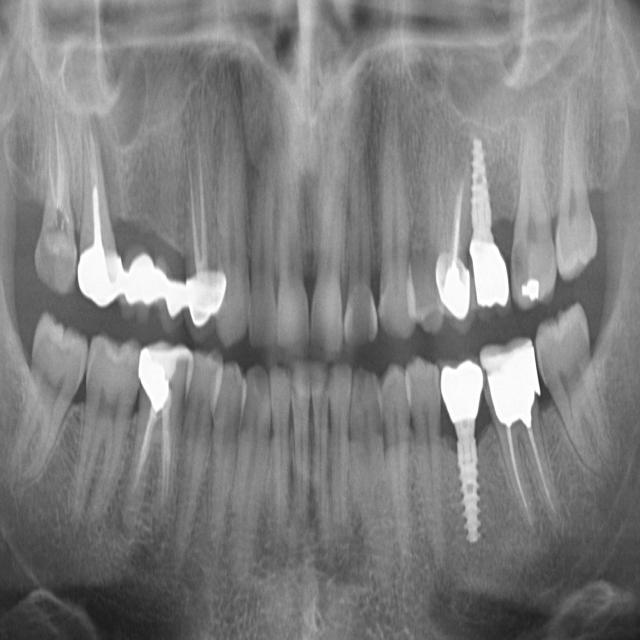dolgu: (523, 262, 557, 313)
implant: (430, 353, 498, 548), (459, 133, 518, 319)
kanal-tedavisi: (498, 413, 574, 537), (173, 130, 226, 280), (126, 387, 184, 522), (72, 129, 117, 256), (435, 142, 475, 282)
kaplama: (478, 346, 552, 422), (133, 340, 203, 406), (430, 257, 476, 321), (78, 242, 124, 304), (189, 267, 228, 330)
kopru: (100, 248, 214, 331)
